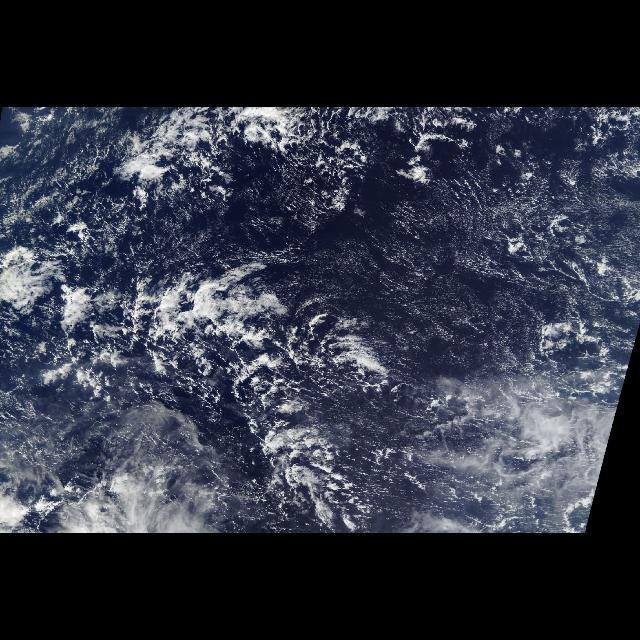Fish: (1, 238, 401, 528)
Gravel: (260, 114, 392, 216), (30, 193, 194, 250)
Sugar: (334, 177, 640, 533)
